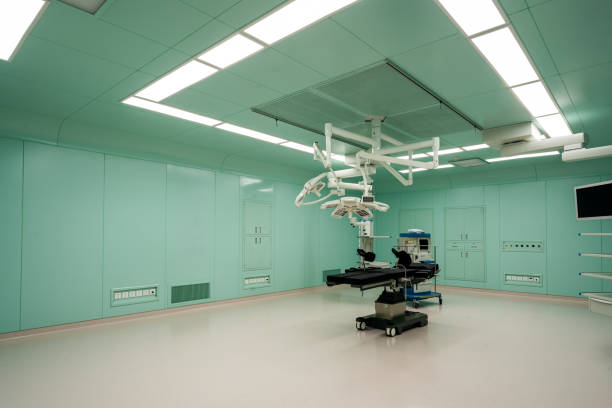bedside_monitor: (575, 182, 612, 219), (415, 238, 431, 252)
handle: (457, 229, 464, 243), (257, 224, 264, 237), (464, 248, 473, 258), (249, 238, 258, 248), (258, 236, 265, 248), (454, 248, 462, 258), (252, 224, 258, 236), (464, 232, 470, 242)
operating_bed: (323, 245, 461, 336)
surgical_light: (318, 192, 388, 232), (291, 176, 327, 211)
